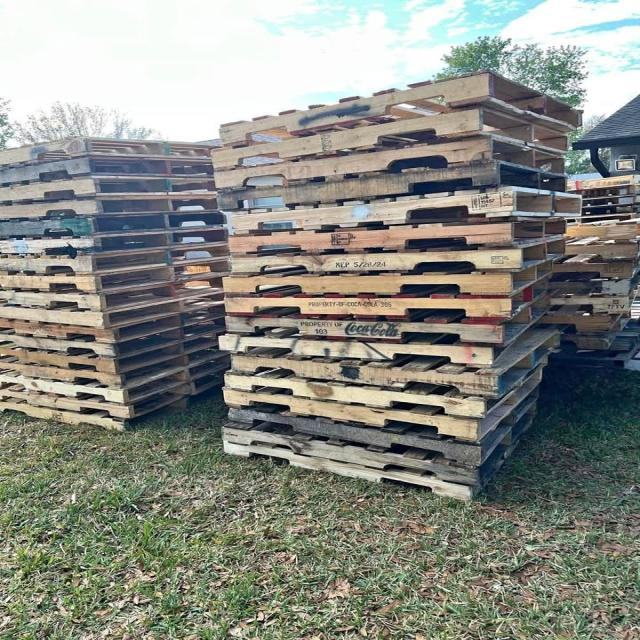non-igps: (213, 62, 591, 154), (205, 100, 575, 180), (222, 323, 568, 405), (224, 381, 543, 469), (219, 364, 548, 448), (207, 130, 574, 197), (208, 156, 575, 220), (219, 182, 592, 242), (220, 289, 557, 353), (216, 244, 566, 303), (220, 270, 554, 330), (218, 418, 492, 491), (223, 230, 576, 286), (223, 209, 578, 261), (220, 437, 479, 508), (0, 359, 243, 421), (0, 348, 236, 409), (220, 370, 492, 422), (0, 378, 231, 436), (0, 341, 238, 393), (0, 312, 235, 364), (0, 268, 240, 318), (0, 326, 237, 376), (214, 330, 502, 370), (0, 298, 235, 347), (0, 254, 237, 299), (0, 288, 232, 332), (0, 132, 225, 175), (0, 240, 234, 280), (0, 170, 225, 210), (0, 191, 225, 230), (0, 224, 233, 261), (0, 153, 219, 191), (0, 208, 231, 244), (546, 284, 640, 316), (545, 273, 639, 301), (562, 234, 639, 265), (560, 216, 639, 244), (545, 259, 640, 281), (562, 170, 640, 192), (564, 182, 639, 202), (579, 199, 639, 217), (580, 192, 639, 210)
